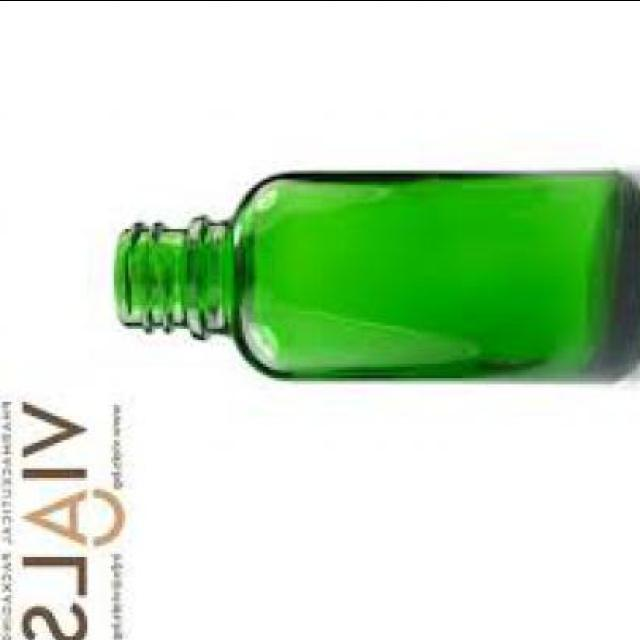kaca: (111, 170, 640, 380)
